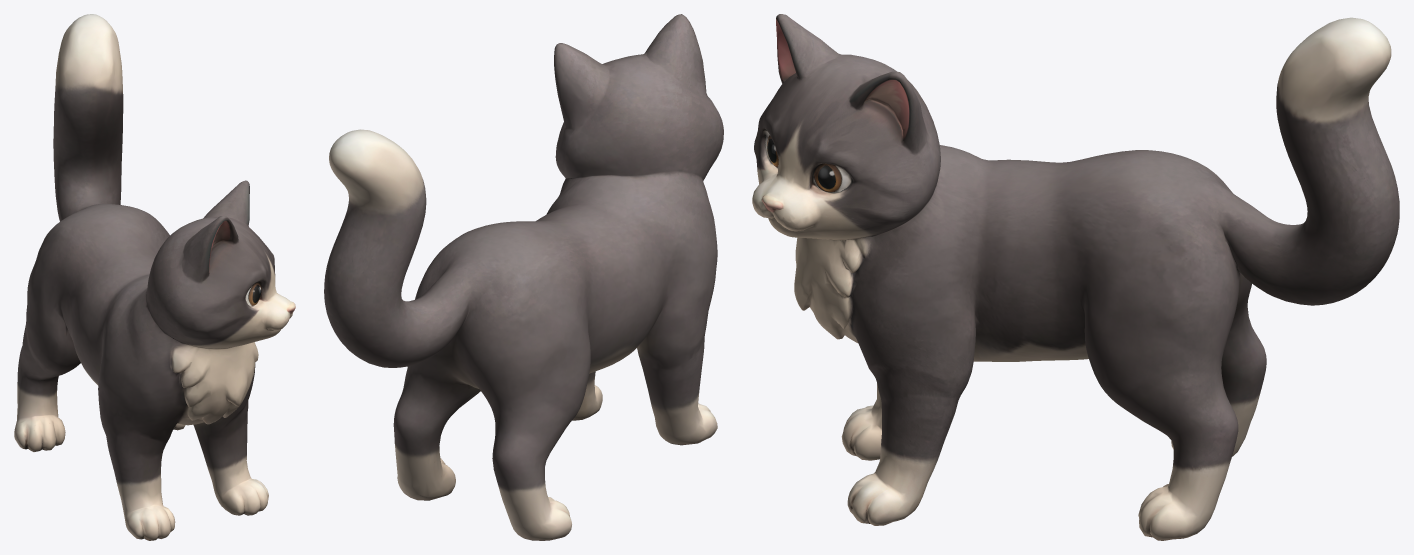
Rendered from button.fbx.
3 renders of one model, left to right at view 1: azimuth 30°, elevation 25°; view 2: azimuth 150°, elevation 25°; view 3: azimuth 270°, elevation 25°, orthographic. The views are drawn at different scales.
Visible parts, largest first — view 1: tripo_node_31d5929b; view 2: tripo_node_31d5929b; view 3: tripo_node_31d5929b.
Part boxes in pixels (<box>): tripo_node_31d5929b: <box>14,14,295,540</box>; tripo_node_31d5929b: <box>324,14,723,540</box>; tripo_node_31d5929b: <box>752,14,1399,540</box>.
Size of the model in its own units: 0.4188 by 0.8442 by 0.9799.
Materials: 1 (1 with a texture image).
